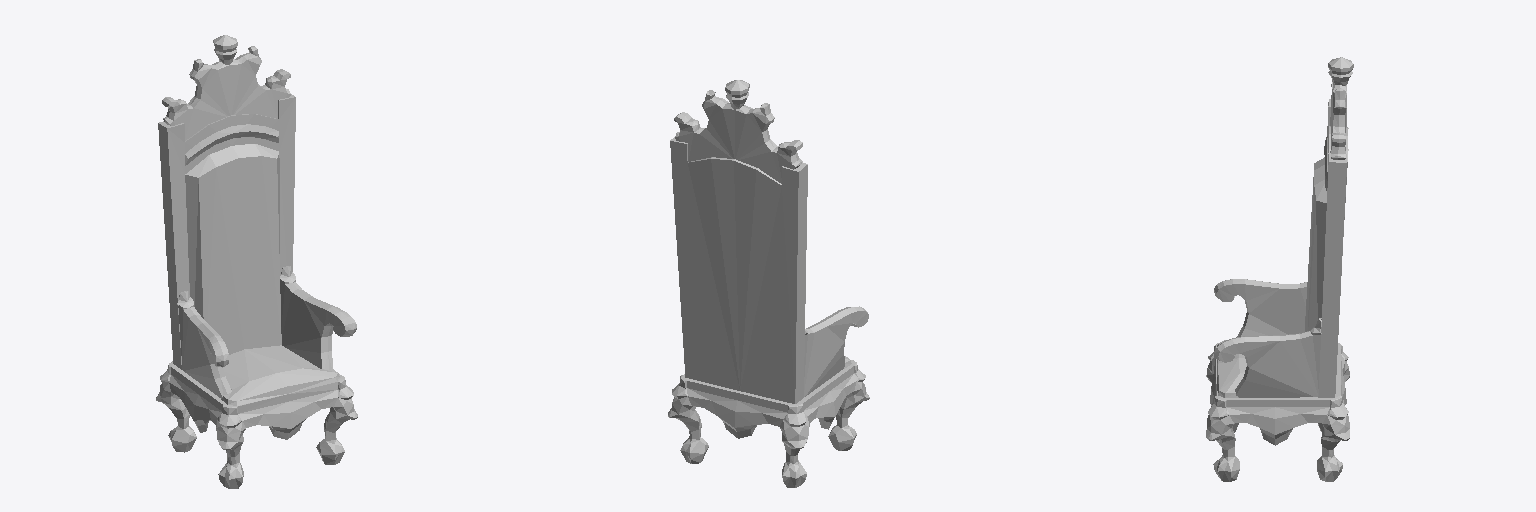
The model's file is throne.obj.
3 renders of one model, left to right at view 1: azimuth 30°, elevation 25°; view 2: azimuth 150°, elevation 25°; view 3: azimuth 270°, elevation 25°, orthographic.
Visible parts, largest first — view 1: DukeThrone; view 2: DukeThrone; view 3: DukeThrone.
Part boxes in pixels (x1,y1,x2,y2): DukeThrone: (156, 35, 357, 488); DukeThrone: (668, 80, 869, 487); DukeThrone: (1206, 57, 1353, 481).
Size of the model in its own units: 0.6967 by 1.88 by 0.6332.